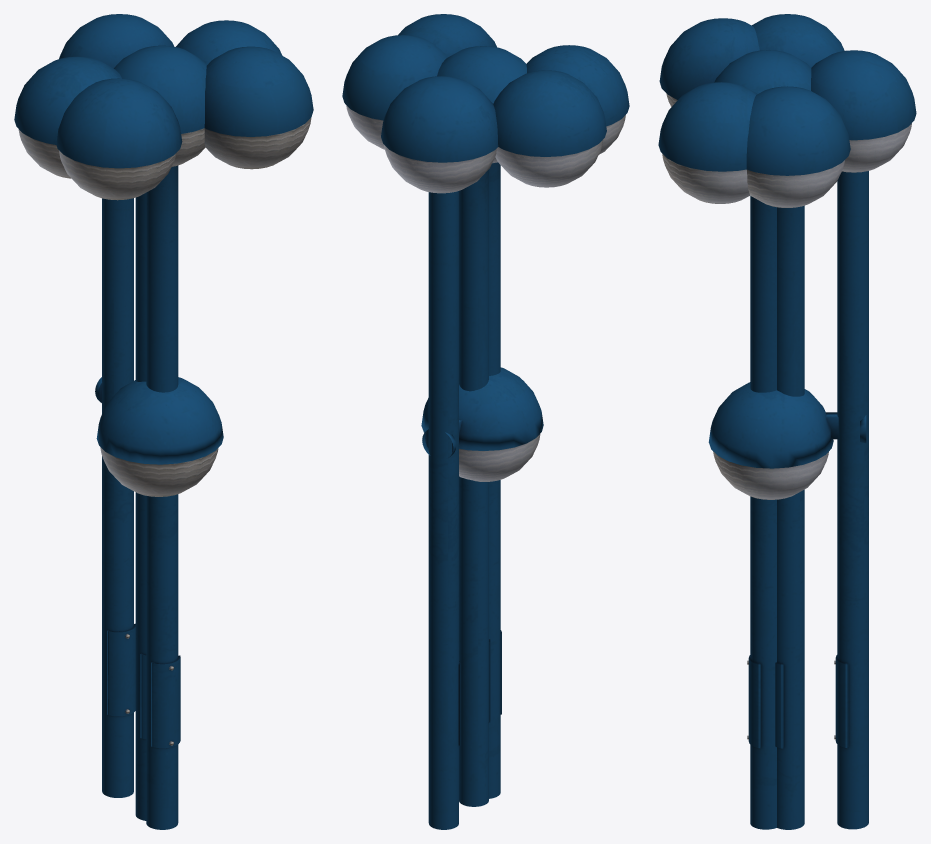
Rendered from laternen.fbx.
The picture shows the model from 3 angles, left to right: view 1: azimuth 30°, elevation 25°; view 2: azimuth 150°, elevation 25°; view 3: azimuth 270°, elevation 25°; orthographic projection. The views are drawn at different scales.
Parts seen in each view (by area): view 1: light_triple, light_single, light_double, light_wall_fixed; view 2: light_double, light_triple, light_single, light_wall_fixed; view 3: light_triple, light_double, light_single, light_wall_fixed.
Boxes of the visible parts, x1,y1,x2,y2 form: light_triple: (56,14,313,829); light_single: (102,45,206,797); light_double: (14,20,282,820); light_wall_fixed: (95,377,223,496); light_double: (342,35,606,806); light_triple: (381,14,629,798); light_single: (428,46,526,829); light_wall_fixed: (421,367,543,481); light_triple: (658,18,916,829); light_double: (746,14,850,829); light_single: (714,50,868,829); light_wall_fixed: (708,382,866,499).
Size of the model in its own units: 90.33 by 258 by 78.64.
